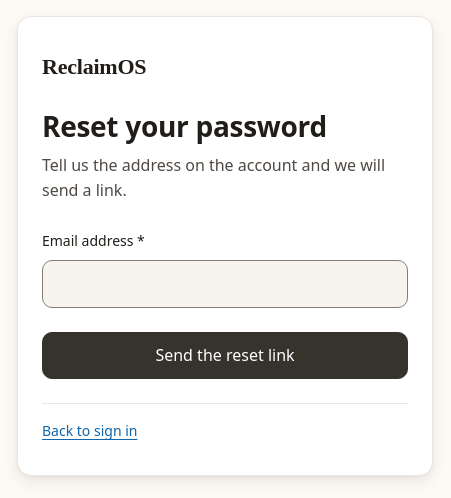
Scenario: asking for a reset link › sends the address and confirms without promising anything
Type "founder@example.com" into the field labelled "Email address *" at [225, 284], box [42,260,408,308]
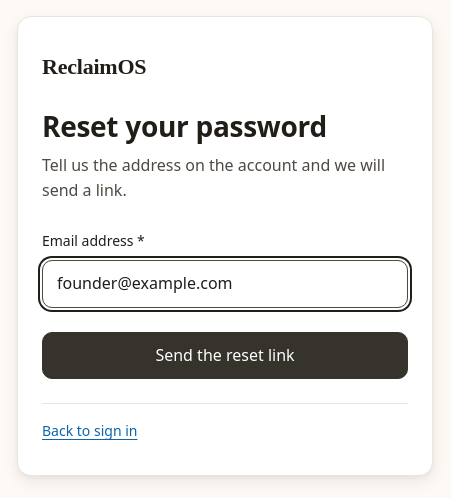
Click the button "Send the reset link" at [225, 356], box [42,332,408,380]
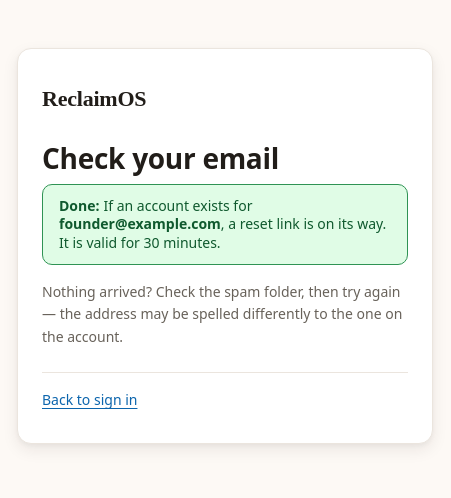
expect the message shows "If an account exists": met, box [104,196,252,215]
